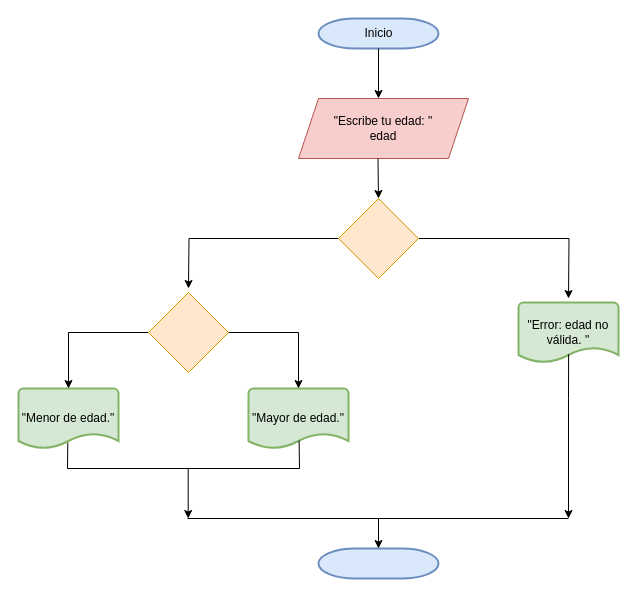
Image size: 636x596. Some labels were removed from this diagram. The box of each missing label's shape, as (x1, y1, x2, y2) in pixels:
edad < 0: (338, 198, 418, 278)
edad < 18: (148, 292, 228, 372)
Fin: (317, 547, 439, 579)
